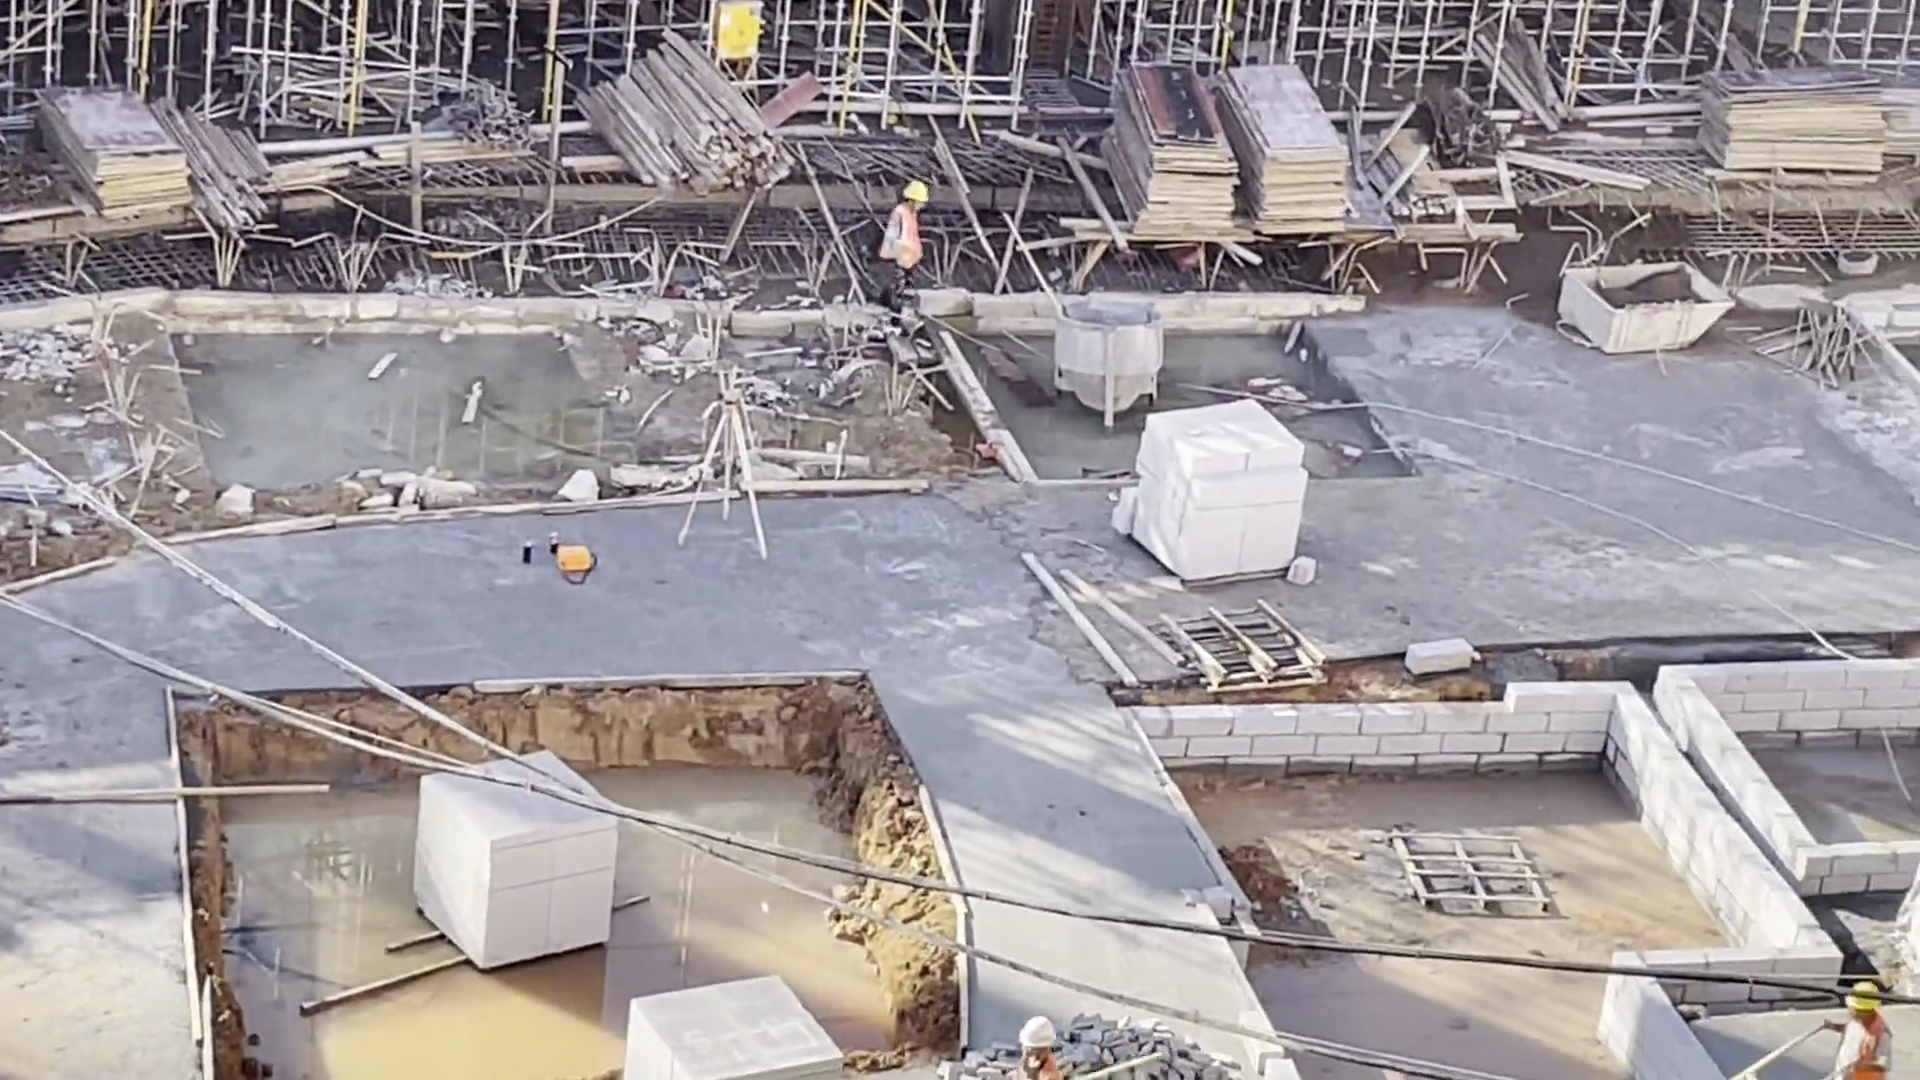board: (1092, 60, 1245, 239), (26, 78, 201, 226), (1691, 61, 1888, 187), (1217, 63, 1355, 238)
brick: (1109, 395, 1308, 583), (417, 812, 620, 972), (617, 967, 843, 1080)
ebox: (717, 1, 766, 64)
helmet: (1017, 1015, 1058, 1051), (1843, 982, 1886, 1014), (901, 179, 930, 202)
hopper: (1554, 257, 1741, 358), (1044, 295, 1166, 417)
person: (874, 176, 930, 331), (1817, 980, 1895, 1080), (1012, 1013, 1065, 1080)
vest: (876, 203, 925, 267), (1840, 1017, 1889, 1080)
wood: (574, 27, 797, 202), (188, 109, 285, 243)
